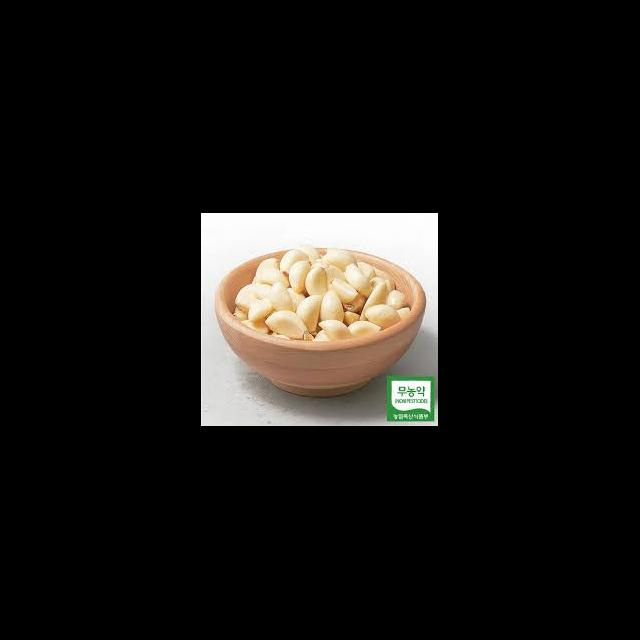garlic: (256, 255, 354, 328), (284, 266, 378, 332)
